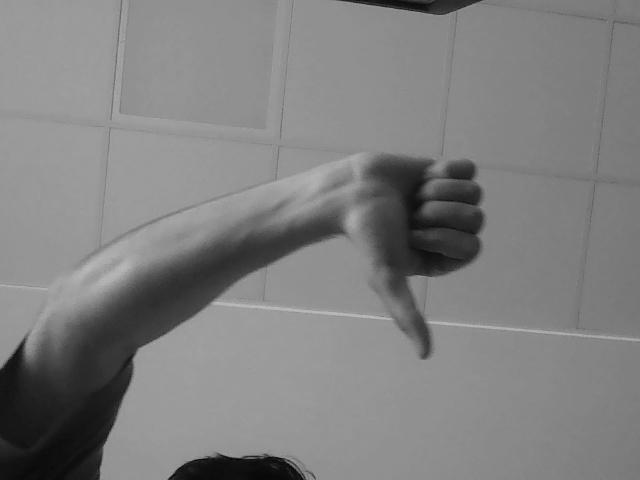bad: (339, 130, 471, 369)
